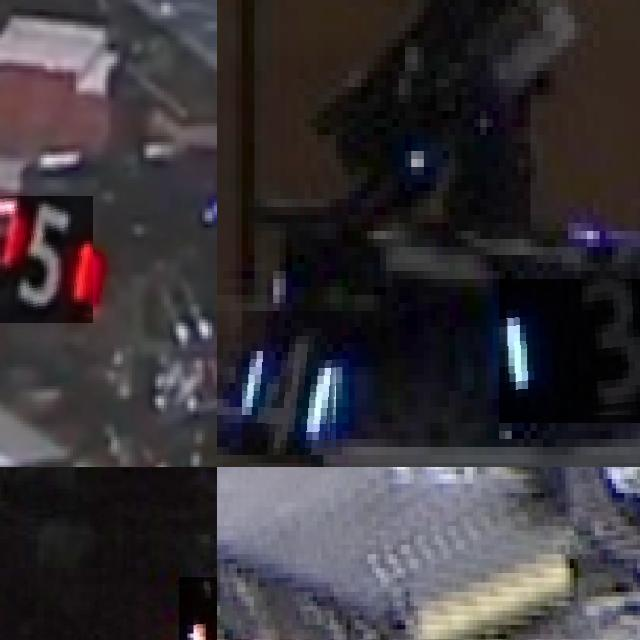B3: (499, 279, 640, 423)
B4: (242, 311, 342, 455)
R5: (0, 196, 93, 322)
